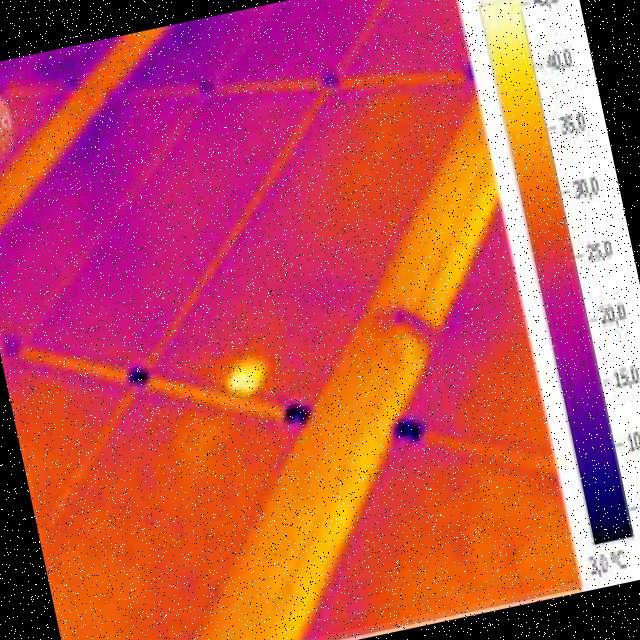Hotspot: (218, 346, 274, 399)
